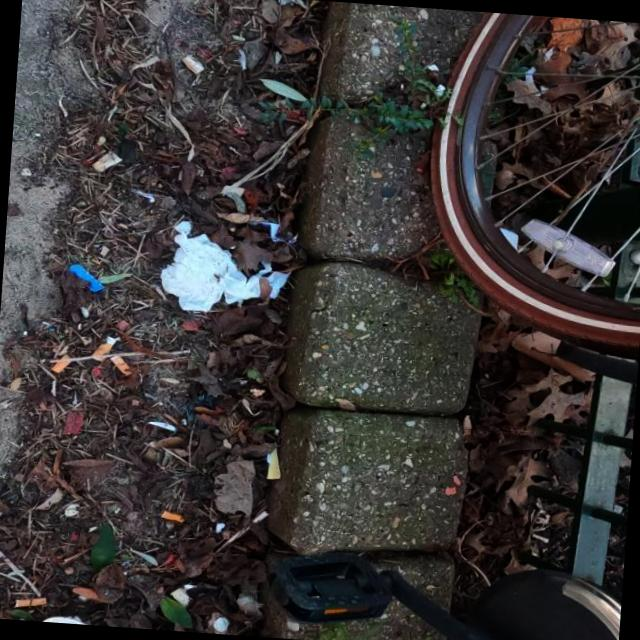Paper: (154, 226, 234, 313), (221, 256, 294, 308)
